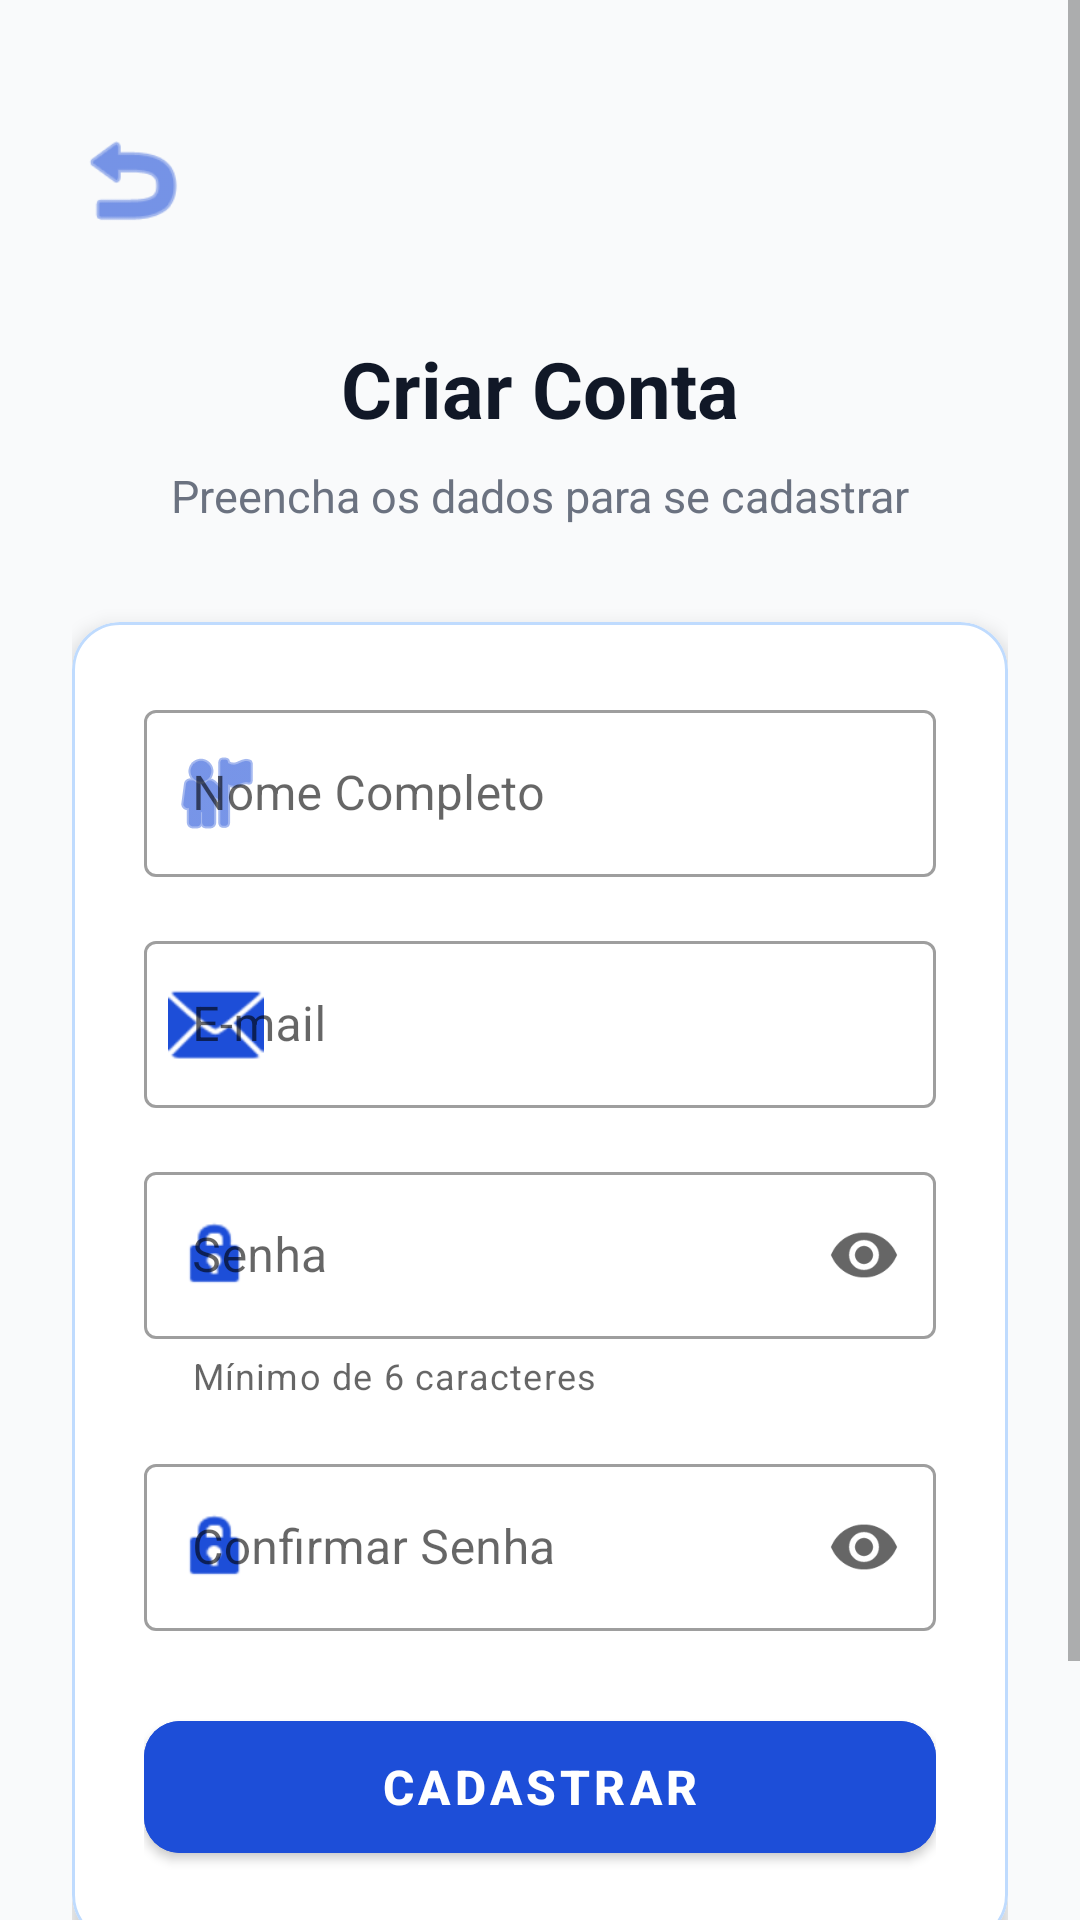

Point at icon controls on the screen. Image size 1080 x 1920, points as (x,y).
Voltar: (133,181)
